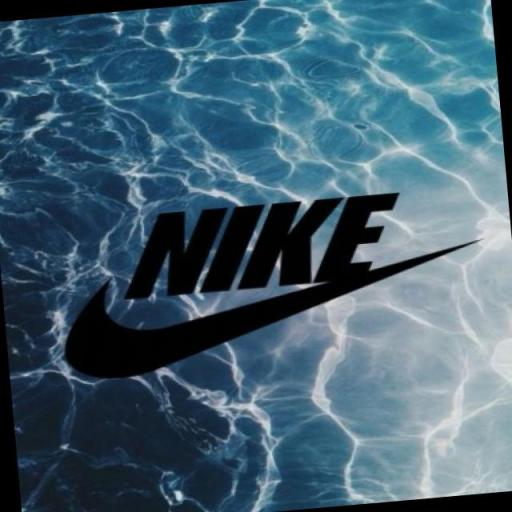Nike: (56, 262, 426, 384), (118, 187, 416, 302)
